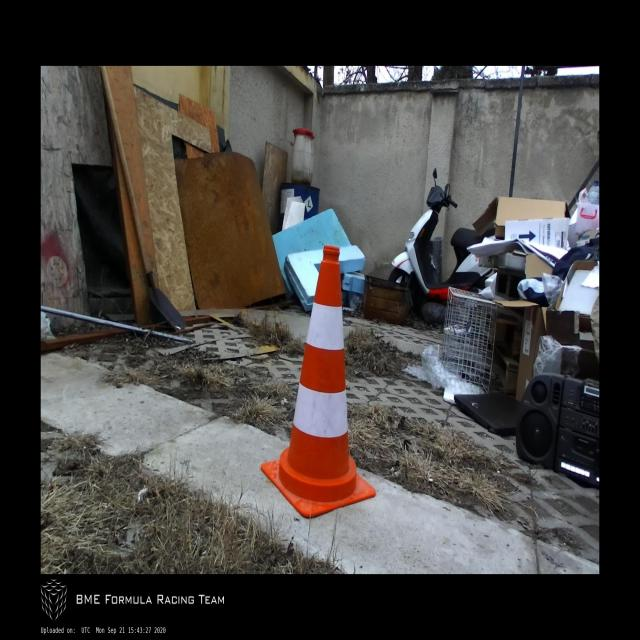large_orange_cone: (262, 247, 376, 518)
